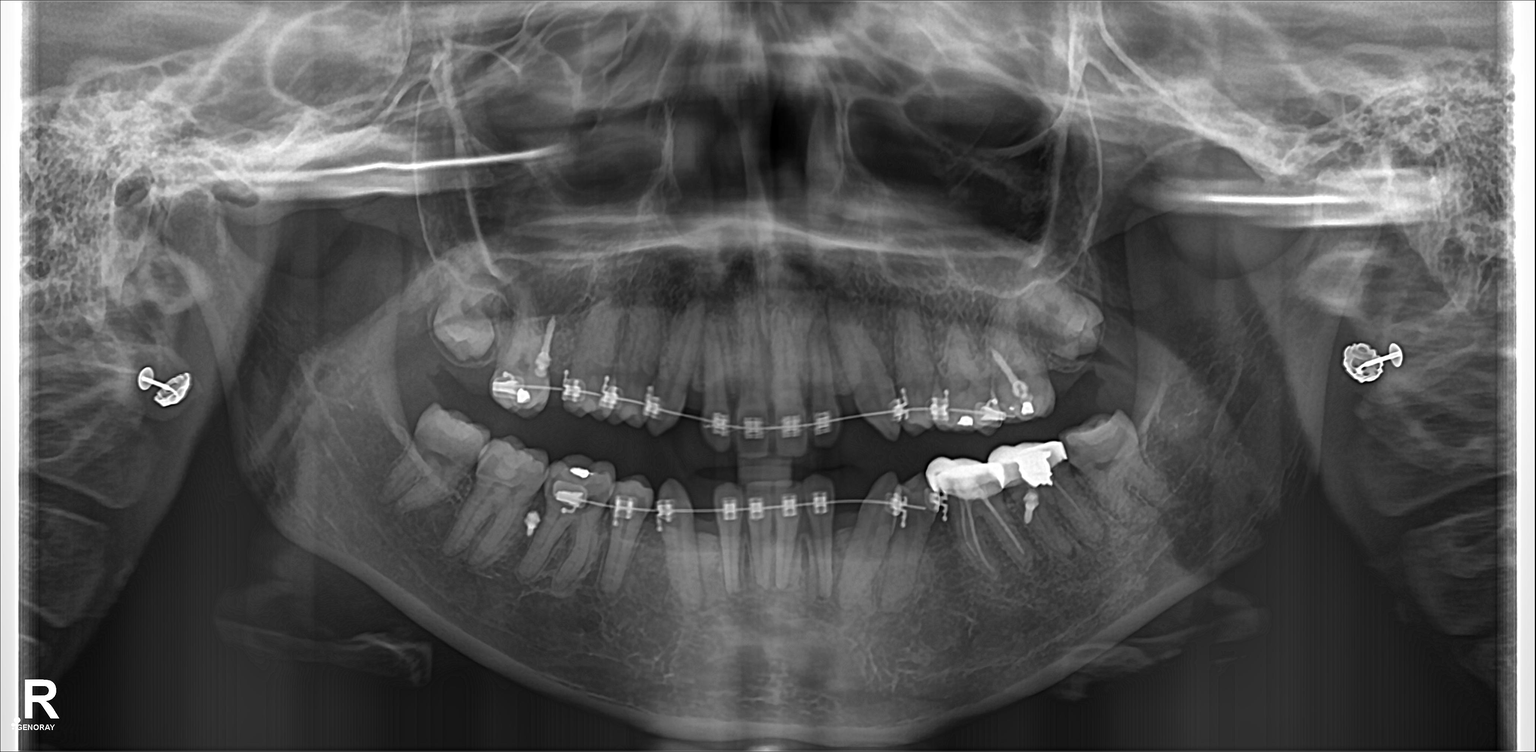Endodontically Treated Tooth: (1011, 449, 1088, 551), (939, 460, 1006, 559), (507, 313, 553, 413)
Impacted Third Molar: (1028, 268, 1102, 358)
